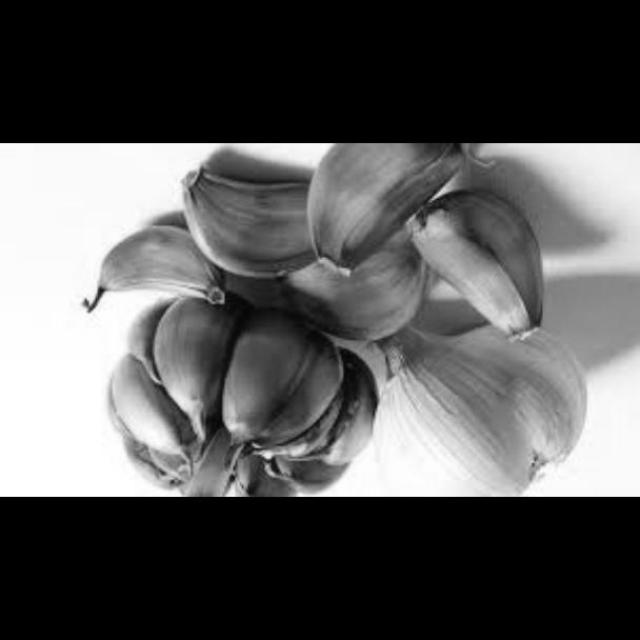cu toi: (100, 283, 382, 498), (364, 325, 584, 498), (304, 144, 488, 279), (401, 195, 553, 346), (177, 160, 318, 276), (76, 221, 232, 316), (277, 242, 424, 340)
